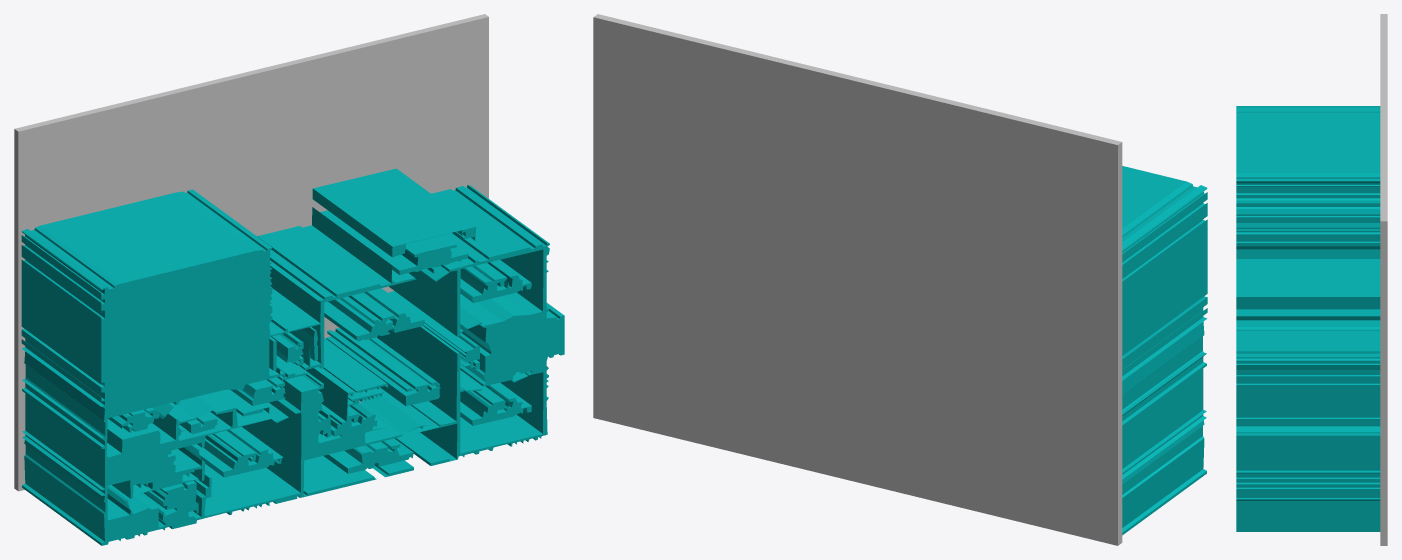
The picture shows the model from 3 angles, left to right: view 1: azimuth 30°, elevation 25°; view 2: azimuth 150°, elevation 25°; view 3: azimuth 270°, elevation 25°; orthographic projection. The views are drawn at different scales.
Visible parts, largest first — view 1: world; view 2: world; view 3: world.
Boxes of the visible parts, x1,y1,x2,y2 form: world: (14, 14, 564, 545); world: (593, 14, 1207, 545); world: (1236, 14, 1387, 545).
Size of the model in its own units: 10.23 by 7.47 by 3.15.
